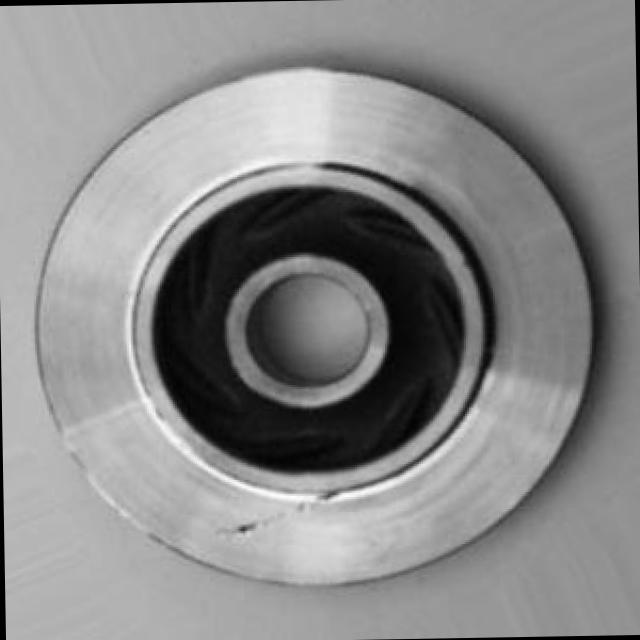Defect: (211, 502, 268, 556)
